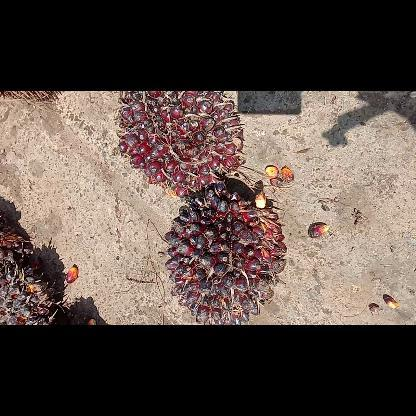Kurang masak: (160, 180, 288, 324), (115, 90, 247, 200)
